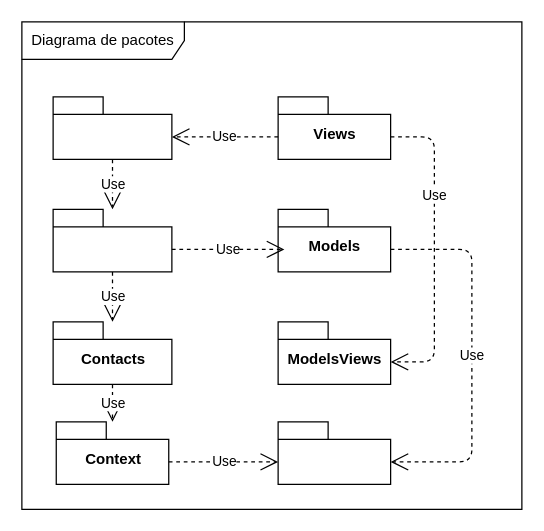
Some shapes in this 544 by 531 pixel diagram are drawn without their labels. Each missing label, with the centre of its shape:
Controllers: point (112, 127)
Migrations: point (334, 452)
Repository: point (112, 240)
